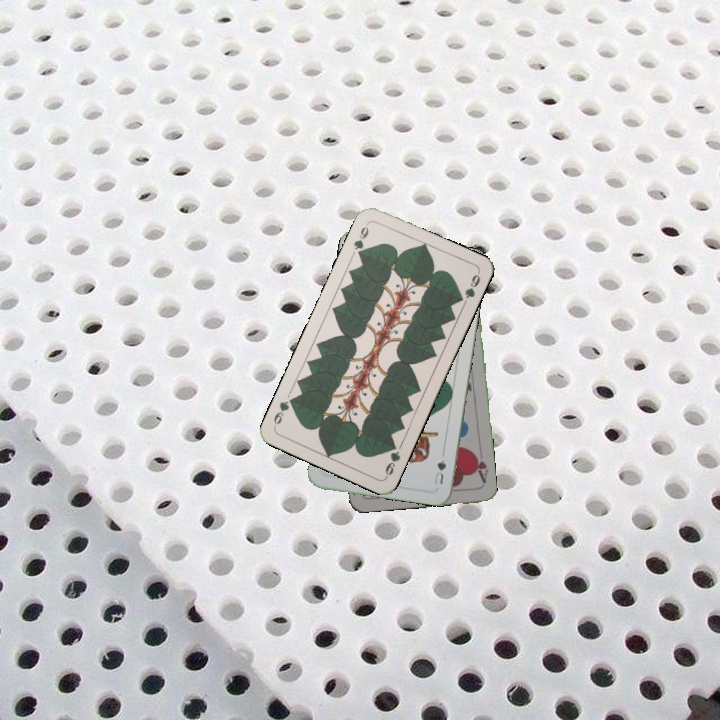G9: (381, 439, 403, 480), (350, 219, 371, 260)
GU: (431, 456, 449, 487)
HA: (470, 448, 491, 486)
